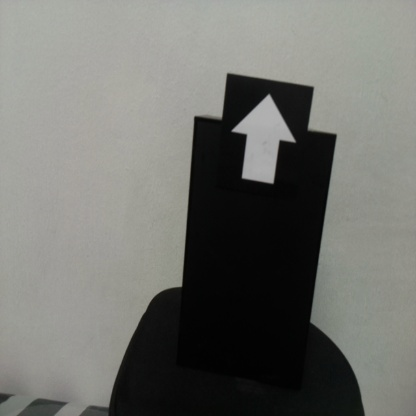id_1: (224, 76, 309, 202)
